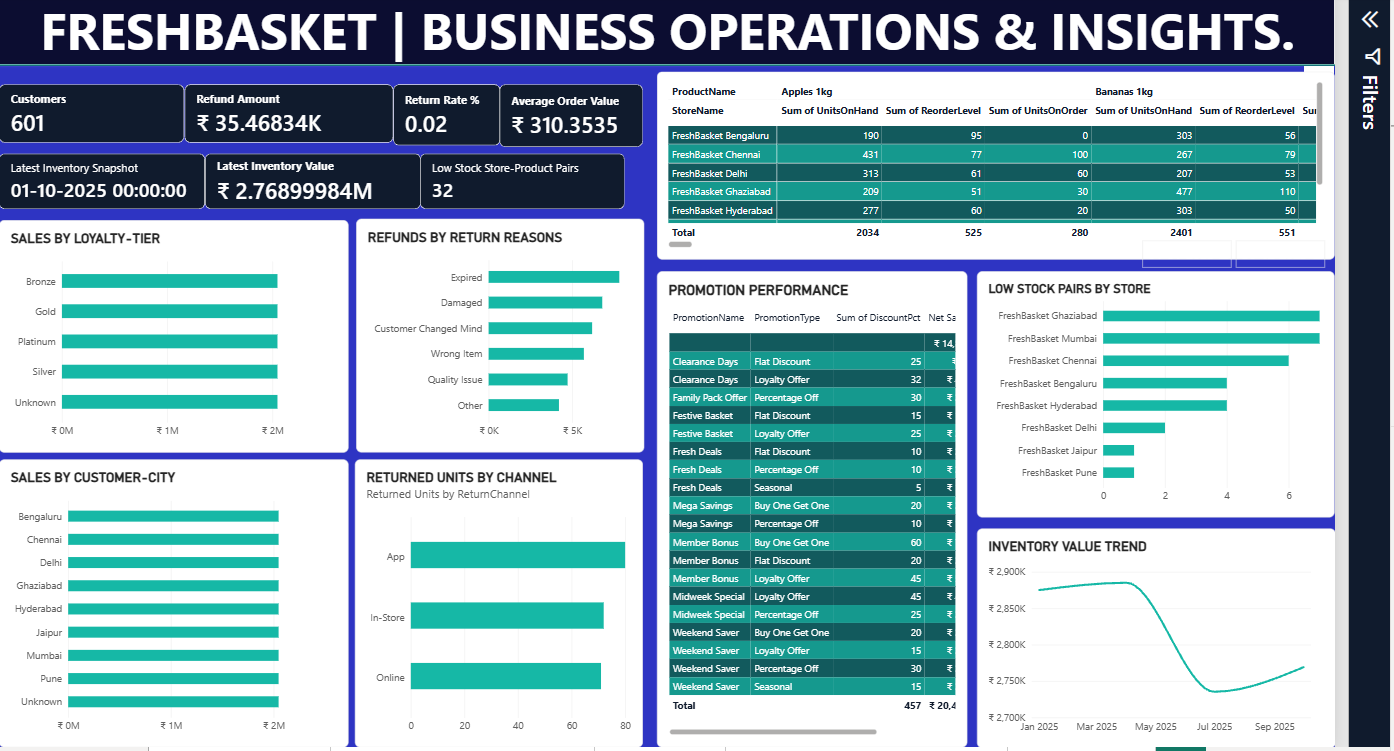

The dashboard page shown, as its layout file describes it:
{"tool":"powerbi","page":{"name":"Business Operations and Insights","canvas":[1920,1080],"ordinal":3},"visuals":[{"type":"cardVisual","fields":{"Data":["_Measures.Latest Inventory Value"]},"box":[296,226,310,80],"z":0},{"type":"cardVisual","fields":{"Data":["_Measures.Refund Amount"]},"box":[266,126,300,84],"z":1000},{"type":"cardVisual","fields":{"Data":["_Measures.Return Rate %"]},"box":[566,126,154,88],"z":2000},{"type":"cardVisual","fields":{"Data":["_Measures.Average Order Value"]},"box":[720,126,206,90],"z":3000},{"type":"cardVisual","fields":{"Data":["_Measures.Customers"]},"box":[0,126,266,84],"z":4000},{"type":"clusteredBarChart","title":"SALES BY LOYALTY-TIER","fields":{"Category":["Customers.LoyaltyTier"],"Y":["_Measures.Net Sales"]},"box":[0,322,502,334],"z":5000},{"type":"clusteredBarChart","title":"SALES BY CUSTOMER-CITY","fields":{"Category":["Customers.City"],"Y":["_Measures.Net Sales"]},"box":[0,666,502,414],"z":6000},{"type":"textbox","box":[0,0,1920,100],"z":7000},{"type":"tableEx","title":"PROMOTION PERFORMANCE","fields":{"Values":["Promotions.PromotionName","Promotions.PromotionType","Sum(Promotions.DiscountPct)","_Measures.Net Sales","_Measures.Gross Profit"]},"box":[946,396,446,684],"z":8000},{"type":"clusteredBarChart","title":"REFUNDS BY RETURN REASONS","fields":{"Category":["Returns.ReturnReason"],"Y":["_Measures.Refund Amount"]},"box":[514,320,414,336],"z":9000},{"type":"clusteredBarChart","title":"RETURNED UNITS BY CHANNEL","fields":{"Category":["Returns.ReturnChannel"],"Y":["_Measures.Returned Units"]},"box":[512,666,414,414],"z":10000},{"type":"cardVisual","fields":{"Data":["_Measures.Low Stock Store-Product Pairs"]},"box":[606,226,294,80],"z":11000},{"type":"lineChart","title":"INVENTORY VALUE TREND","fields":{"Category":["InventorySnapshots.SnapshotDate"],"Y":["_Measures.Latest Inventory Value"]},"box":[1406,766,516,316],"z":12000},{"type":"pivotTable","fields":{"Columns":["Products.ProductName"],"Rows":["Stores.StoreName"],"Values":["Sum(InventorySnapshots.UnitsOnHand)","Sum(InventorySnapshots.ReorderLevel)","Sum(InventorySnapshots.UnitsOnOrder)"]},"box":[946,108,974,270],"z":13000},{"type":"shape","box":[0,78,1920,44],"z":14000},{"type":"cardVisual","fields":{"Data":["_Measures.Latest Inventory Snapshot"]},"box":[0,226,296,80],"z":15000},{"type":"clusteredBarChart","title":"LOW STOCK PAIRS BY STORE","fields":{"Category":["Stores.StoreName"],"Y":["_Measures.Low Stock Store-Product Pairs"]},"box":[1406,396,514,354],"z":16000},{"type":"slicer","title":"Date","fields":{"Values":["Date.Date"]},"box":[1636,326,276,74],"z":16001}]}

Visuals, with their boxes on the page's 1920x1080 design canvas (x1, y1, x2, y2). These are canvas units, not pixel positions in the 1394x751 screenshot, which may show the page scaled, cropped or inside an application window:
cardVisual - _Measures.Latest Inventory Value: region(296, 226, 606, 306)
cardVisual - _Measures.Refund Amount: region(266, 126, 566, 210)
cardVisual - _Measures.Return Rate %: region(566, 126, 720, 214)
cardVisual - _Measures.Average Order Value: region(720, 126, 926, 216)
cardVisual - _Measures.Customers: region(0, 126, 266, 210)
"SALES BY LOYALTY-TIER" clusteredBarChart: region(0, 322, 502, 656)
"SALES BY CUSTOMER-CITY" clusteredBarChart: region(0, 666, 502, 1080)
textbox: region(0, 0, 1920, 100)
"PROMOTION PERFORMANCE" tableEx: region(946, 396, 1392, 1080)
"REFUNDS BY RETURN REASONS" clusteredBarChart: region(514, 320, 928, 656)
"RETURNED UNITS BY CHANNEL" clusteredBarChart: region(512, 666, 926, 1080)
cardVisual - _Measures.Low Stock Store-Product Pairs: region(606, 226, 900, 306)
"INVENTORY VALUE TREND" lineChart: region(1406, 766, 1922, 1082)
pivotTable - Products.ProductName x Stores.StoreName: region(946, 108, 1920, 378)
shape: region(0, 78, 1920, 122)
cardVisual - _Measures.Latest Inventory Snapshot: region(0, 226, 296, 306)
"LOW STOCK PAIRS BY STORE" clusteredBarChart: region(1406, 396, 1920, 750)
"Date" slicer: region(1636, 326, 1912, 400)
